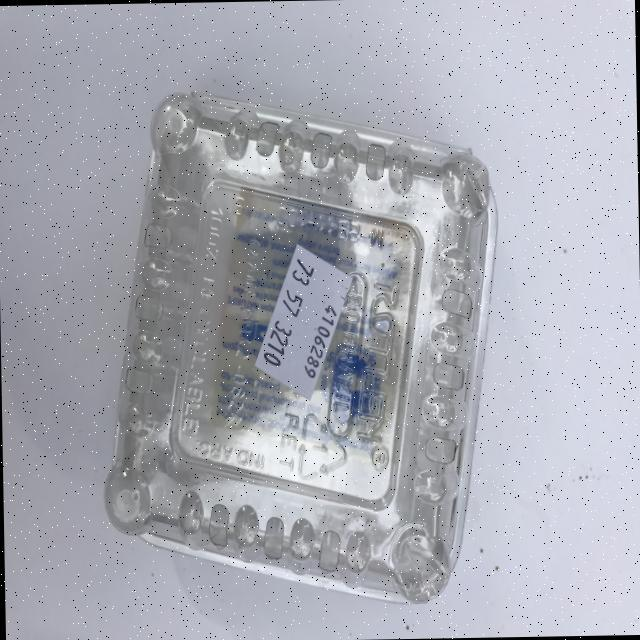plastic: (96, 86, 504, 610)
